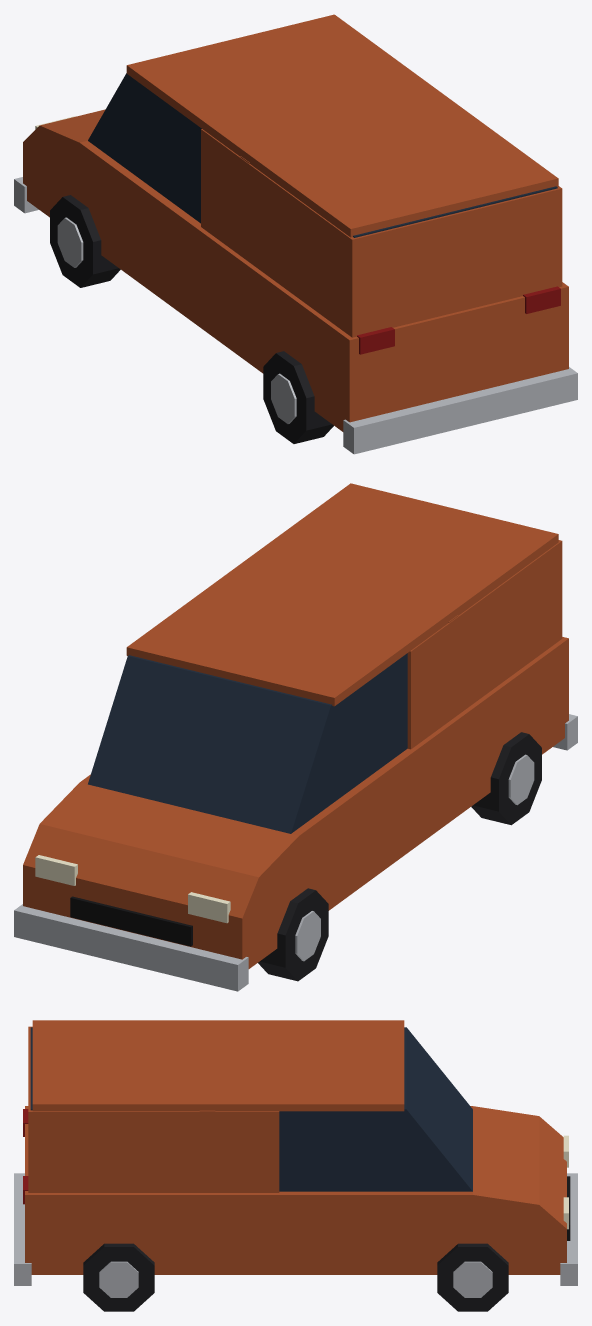
File: CarVanRust.obj
3 renders of one model, top to bottom at view 1: azimuth 30°, elevation 25°; view 2: azimuth 150°, elevation 25°; view 3: azimuth 270°, elevation 25°, orthographic. The views are drawn at different scales.
Visible parts, largest first — view 1: CarVanRust; view 2: CarVanRust; view 3: CarVanRust.
Part boxes in pixels (bbox=[...]): CarVanRust: bbox=[14, 14, 577, 454]; CarVanRust: bbox=[14, 483, 577, 991]; CarVanRust: bbox=[14, 1020, 577, 1311].
Bounding box in the file's own units: 2.07 × 2.01 × 5.1.
1 material, 1 textured.
